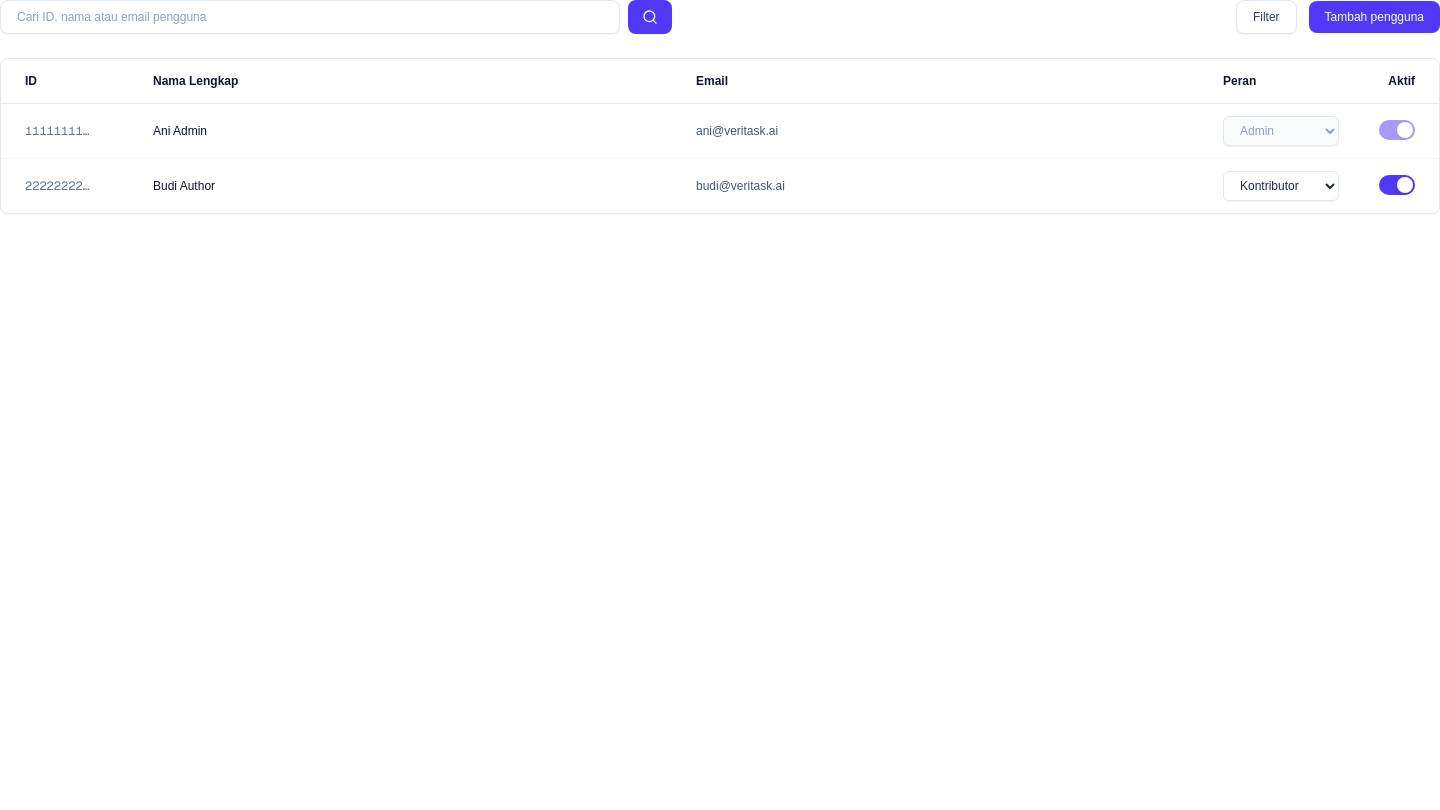
Test: AdminMembersPage, reactivating a member › still opens the deactivate confirmation for an active row
Step 1. Click the button named "Toggle aktif Budi Author" → (1397, 185), box [1379, 175, 1415, 195]
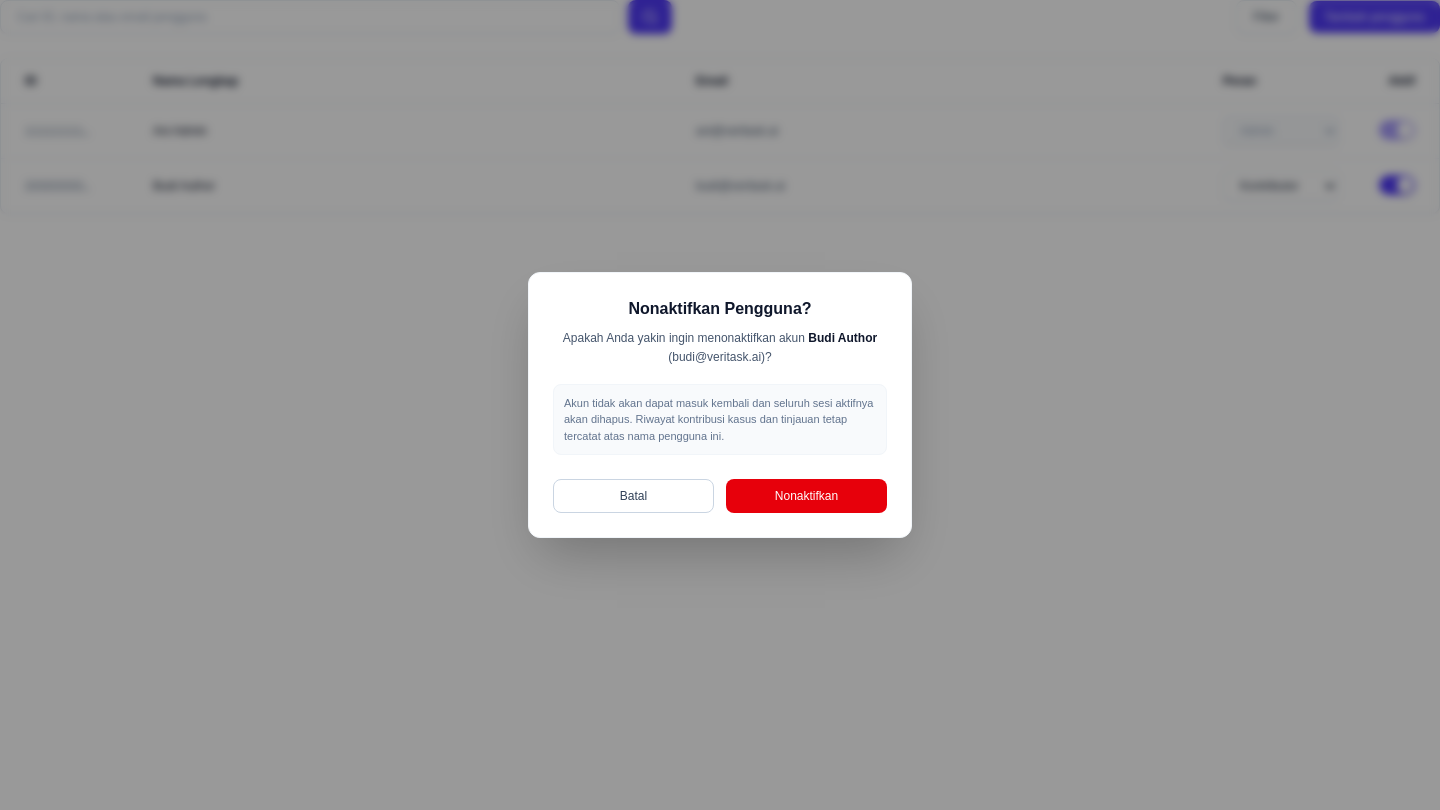
Now the heading "Nonaktifkan Pengguna?" is shown, box [628, 300, 812, 317]
